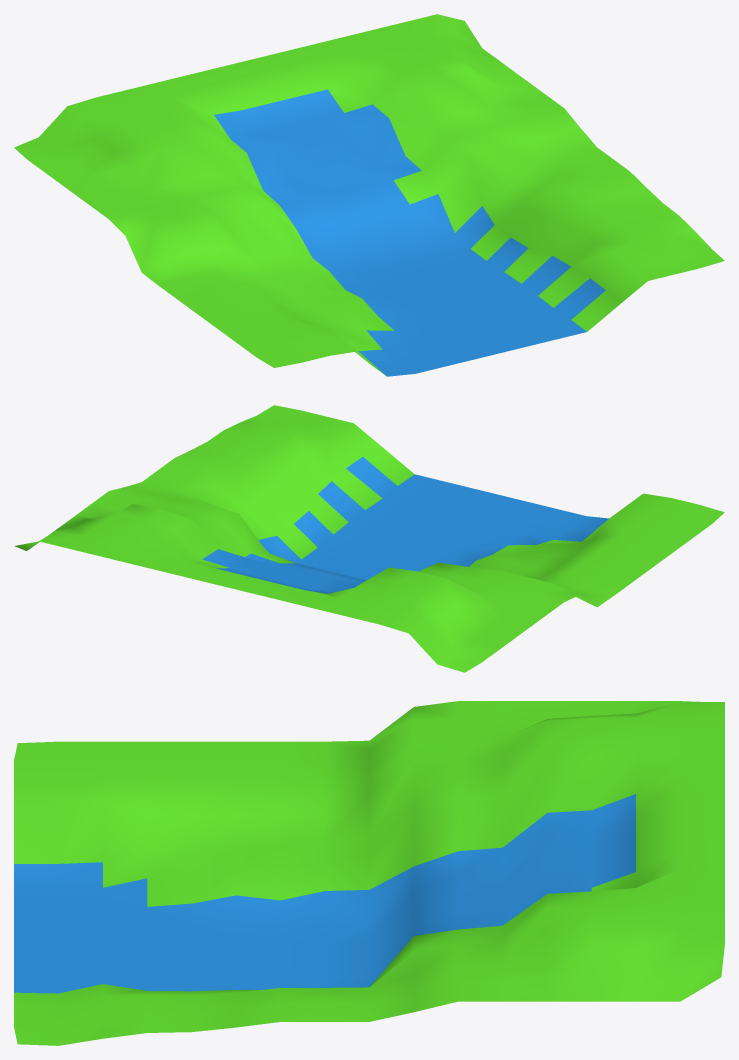
Rendered from Cascade_lp.fbx.
3 views of the same model, one above another, from view 1: azimuth 30°, elevation 25°; view 2: azimuth 150°, elevation 25°; view 3: azimuth 270°, elevation 25° (orthographic). The views are drawn at different scales.
Parts seen in each view (by area): view 1: Cascade_lp; view 2: Cascade_lp; view 3: Cascade_lp.
Boxes of the visible parts, <box> form: Cascade_lp: <box>14,14,724,376</box>; Cascade_lp: <box>14,405,724,672</box>; Cascade_lp: <box>14,701,724,1045</box>.
Bounding box in the file's own units: 50 × 10.33 × 50.
